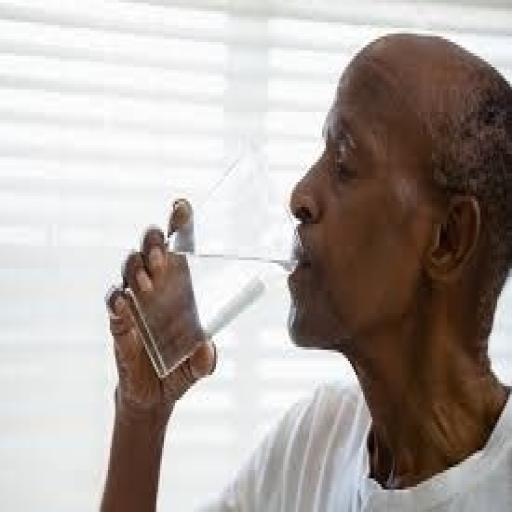drinking: (79, 50, 512, 512)
